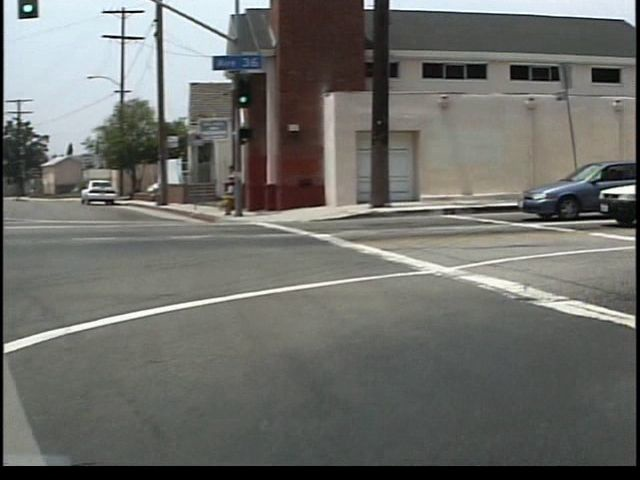person: (233, 165, 251, 215)
